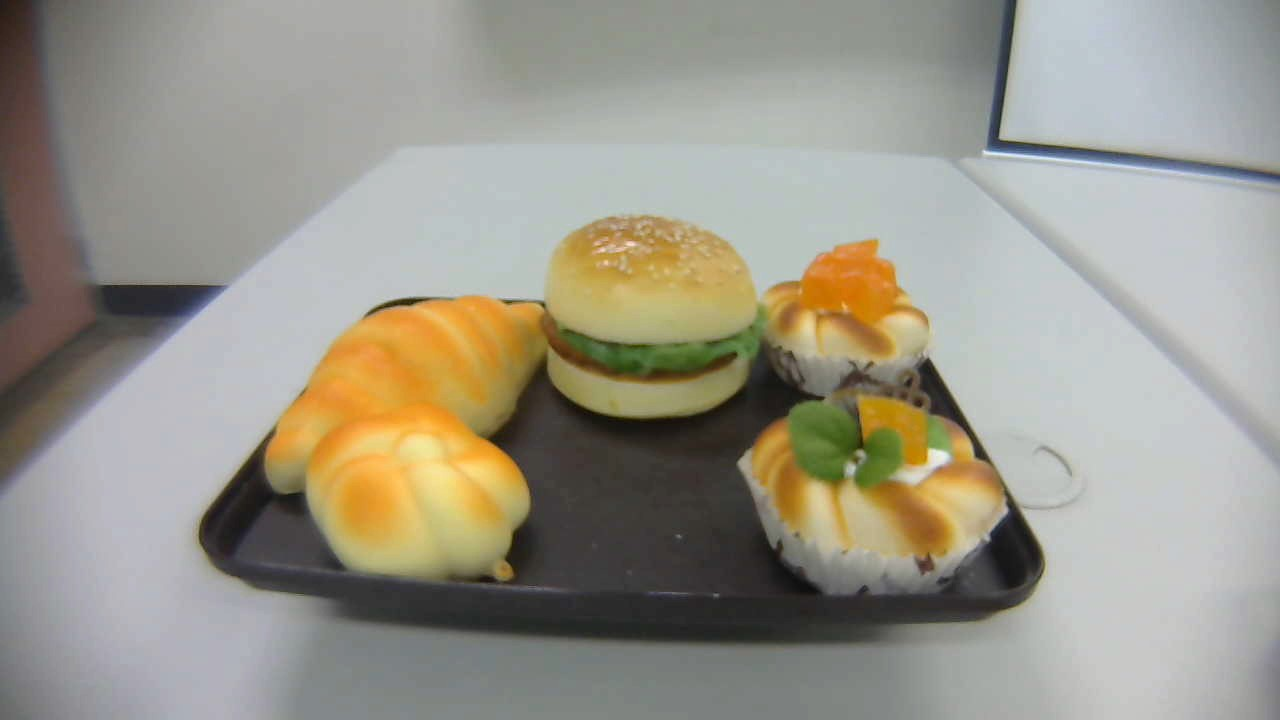croissant: (262, 294, 549, 496)
fruit tart: (738, 372, 1010, 597)
hamburger: (541, 213, 760, 420)
mango tart: (753, 237, 933, 398)
twist bread: (306, 403, 534, 584)
